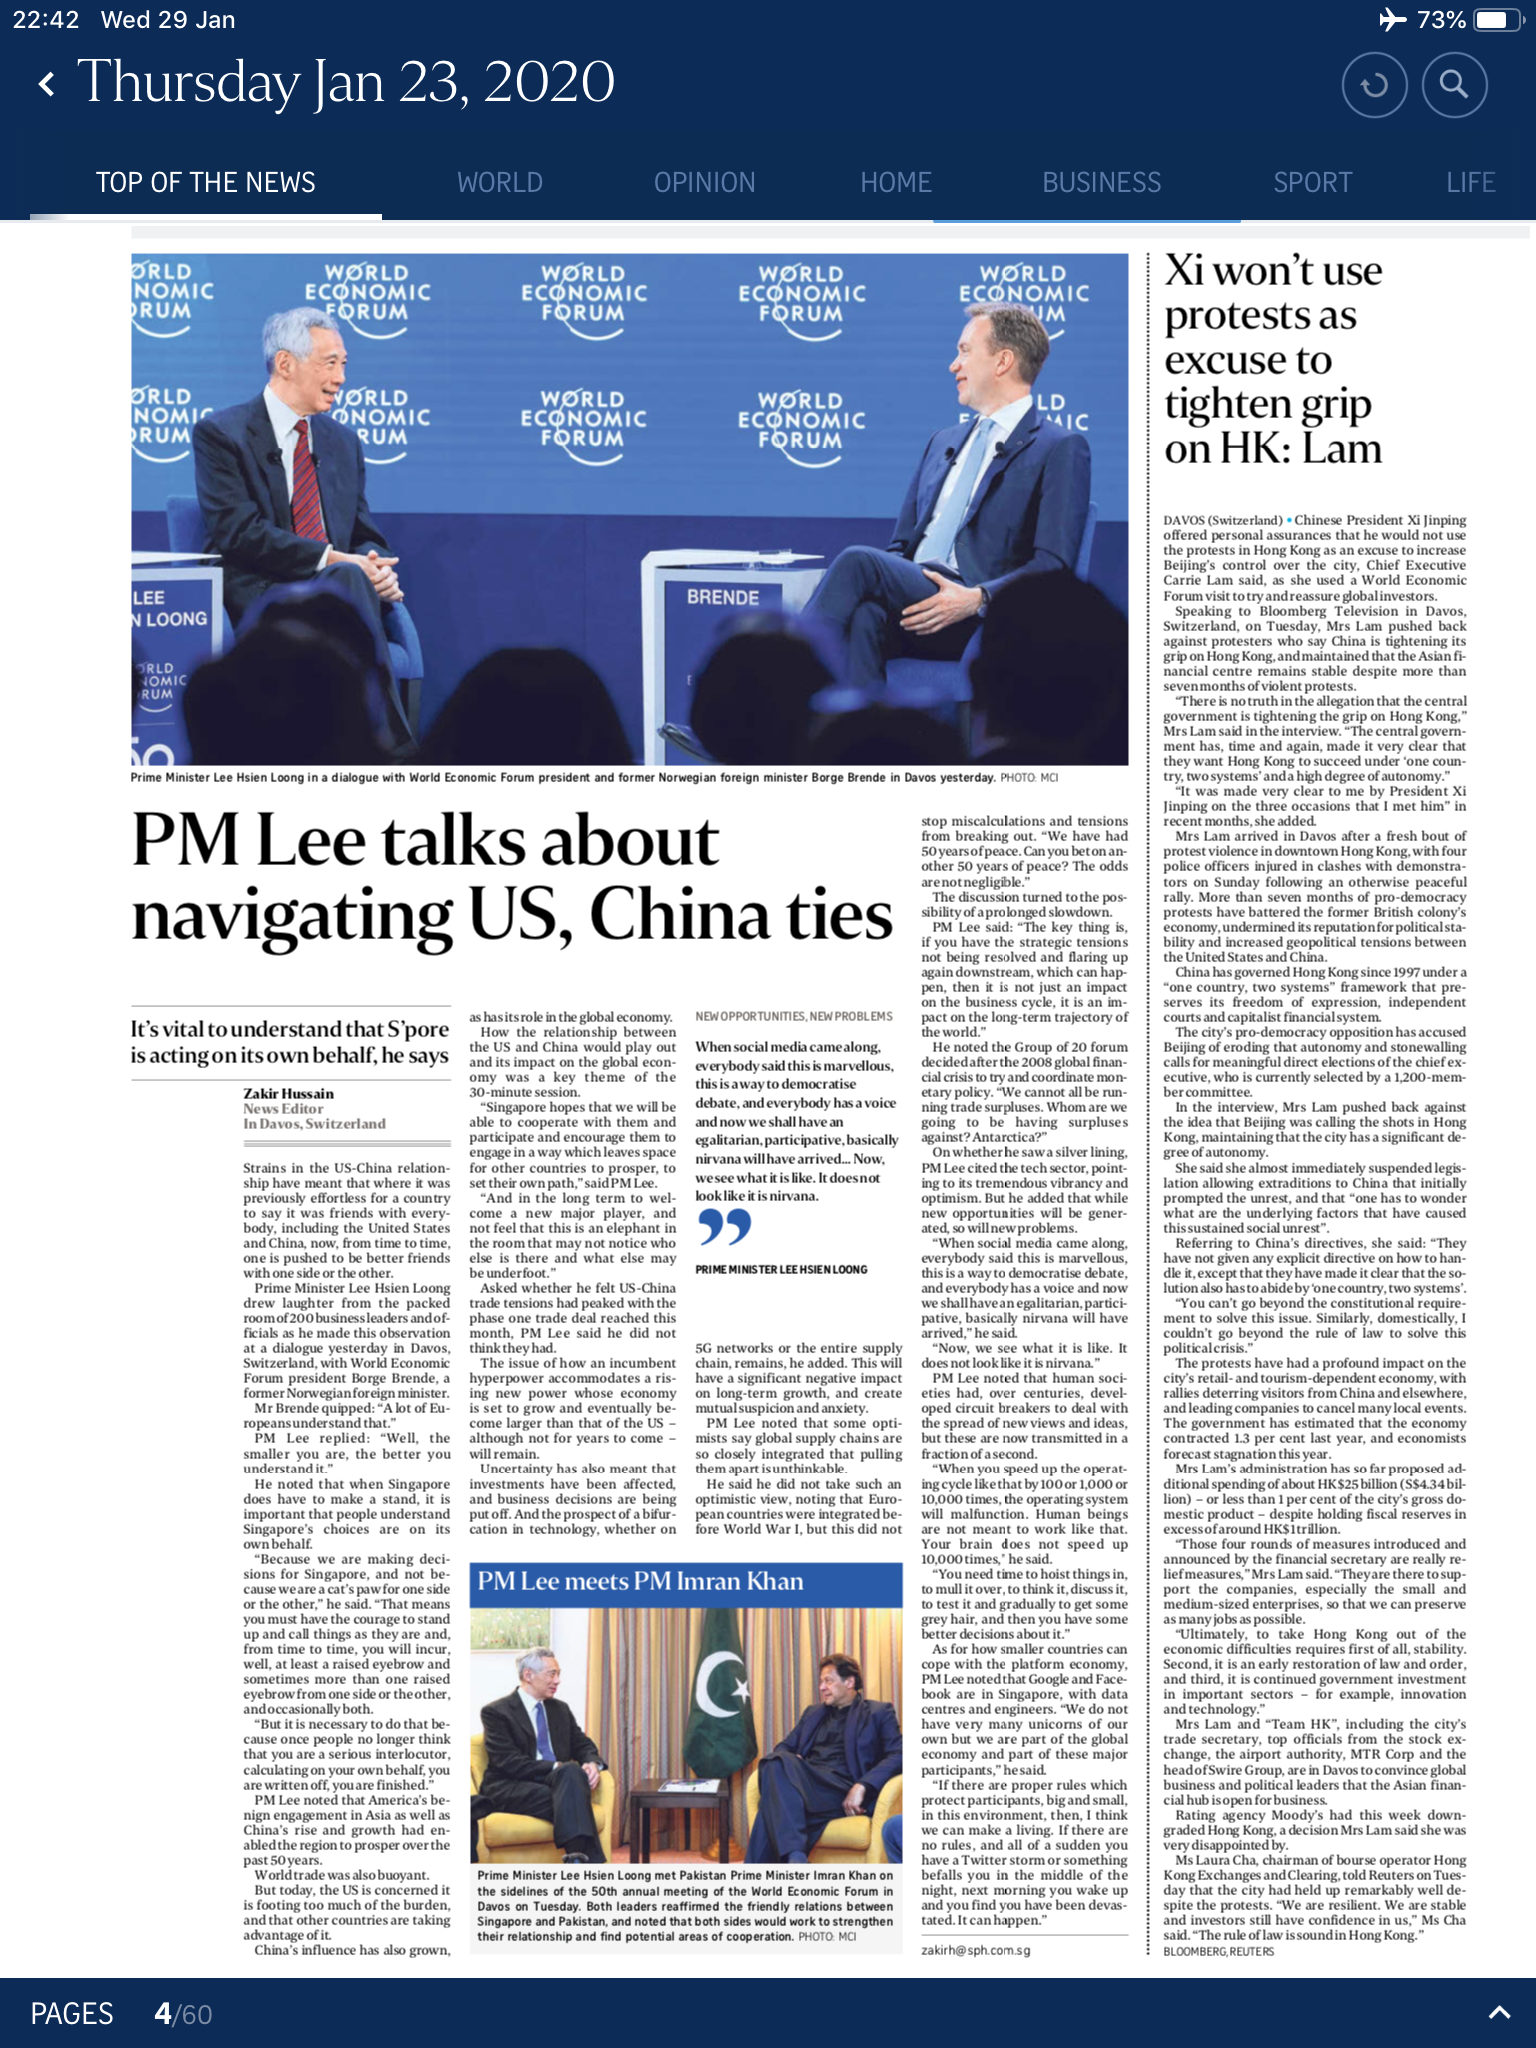Byline: (239, 1085, 390, 1134)
Headline: (132, 803, 891, 959), (1163, 240, 1388, 464)
Illustration: (473, 1866, 900, 1953), (124, 764, 1078, 792)
Image: (131, 252, 1129, 768), (468, 1564, 904, 1859)
Text: (1160, 510, 1471, 1963), (920, 810, 1134, 1937), (240, 1158, 452, 1966), (468, 1008, 678, 1542), (691, 1335, 907, 1543)
